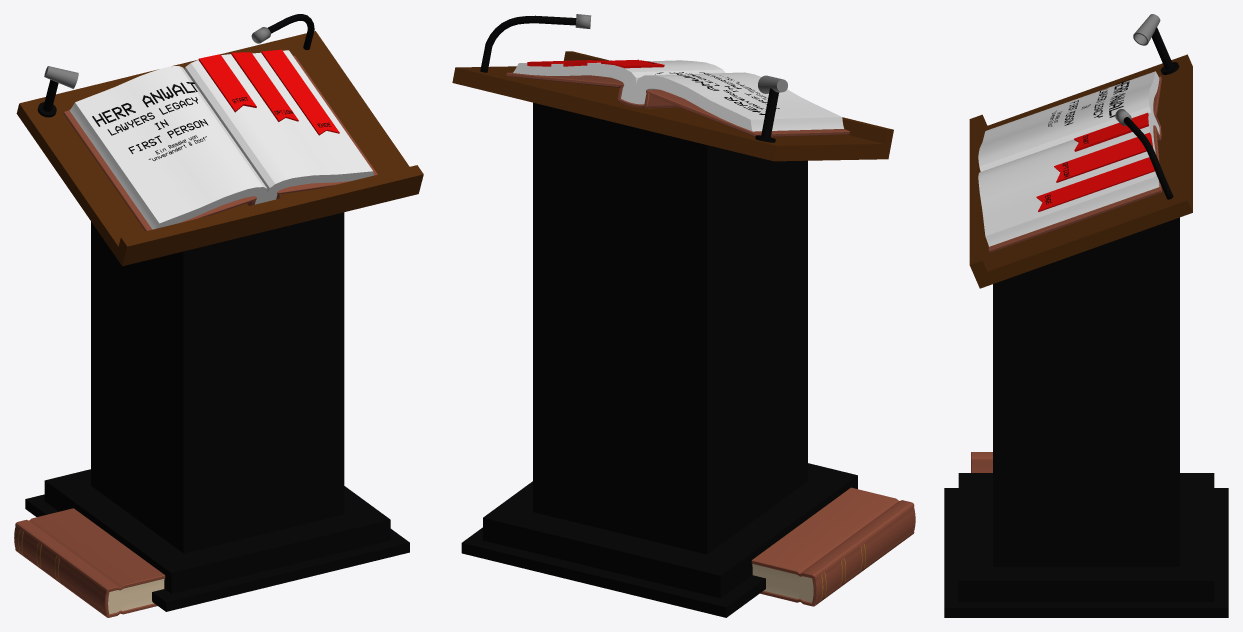
Rendered from Main Menu Book 1.fbx.
3 views of the same model, side by side, from view 1: azimuth 30°, elevation 25°; view 2: azimuth 150°, elevation 25°; view 3: azimuth 270°, elevation 25° (orthographic). The views are drawn at different scales.
Parts seen in each view (by area): view 1: Pult Ständer, book content, Pult Oben, Buch, book cover and side, Circle.002, Circle.001, Circle.004, Herr Anwal; view 2: Pult Ständer, Pult Oben, Buch, book cover and side, book content, Mikrofon Ständer; view 3: Pult Ständer, Pult Oben, book content, book cover and side, Circle.002, Circle.001, Circle.004, Mikrofon Ständer, Lampe Ständer, Lampe, Buch.
Boxes of the visible parts, x1,y1,x2,y2 form: Pult Ständer: [25, 212, 409, 611]; book content: [75, 50, 372, 223]; Pult Oben: [16, 31, 423, 266]; Buch: [14, 508, 165, 617]; book cover and side: [63, 55, 377, 231]; Circle.002: [261, 49, 339, 135]; Circle.001: [231, 52, 298, 121]; Circle.004: [198, 54, 256, 112]; Herr Anwal: [92, 82, 195, 126]; Pult Ständer: [461, 102, 857, 617]; Pult Oben: [452, 51, 893, 161]; Buch: [751, 487, 915, 606]; book cover and side: [506, 63, 849, 136]; book content: [519, 60, 841, 119]; Mikrofon Ständer: [480, 15, 576, 72]; Pult Ständer: [944, 217, 1228, 617]; Pult Oben: [969, 54, 1192, 288]; book content: [978, 71, 1155, 236]; book cover and side: [985, 71, 1161, 252]; Circle.002: [1036, 157, 1154, 211]; Circle.001: [1054, 132, 1153, 182]; Circle.004: [1074, 112, 1148, 151]; Mikrofon Ständer: [1123, 117, 1173, 199]; Lampe Ständer: [1151, 27, 1179, 74]; Lampe: [1133, 14, 1160, 45]; Buch: [971, 452, 992, 472].
Size of what is drawn, in the model's own units: 172 by 247 by 132.
